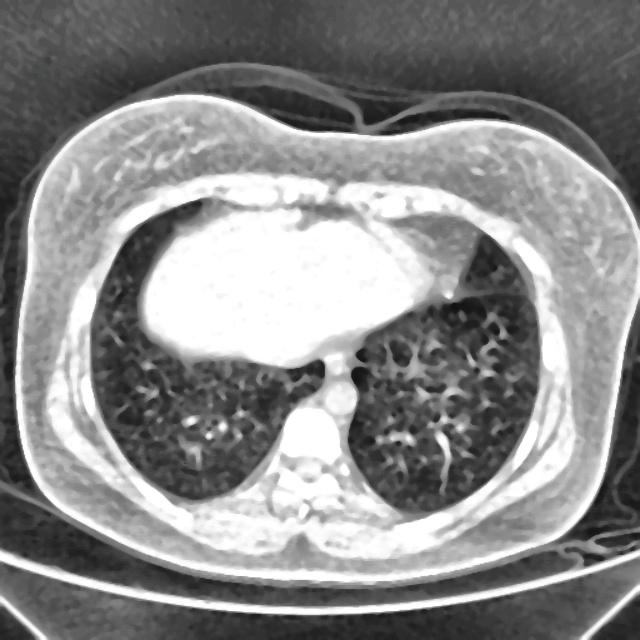covid: (12, 80, 638, 589)
